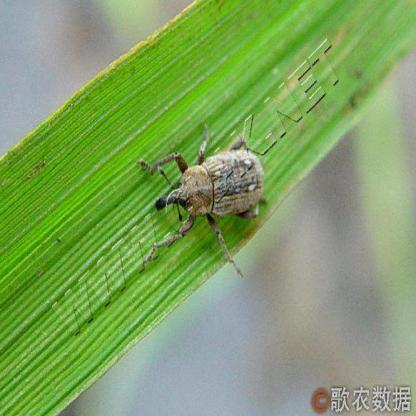rice-bug: (146, 131, 266, 262)
